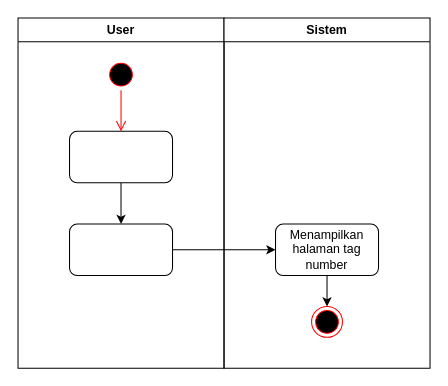
This 448x386 diagram has some shape labels left out. Each missing label, with the centre of its shape:
"Pilih Master Data pada Sidebar" goes at (120,156).
"Pilih tag number" goes at (120,249).
